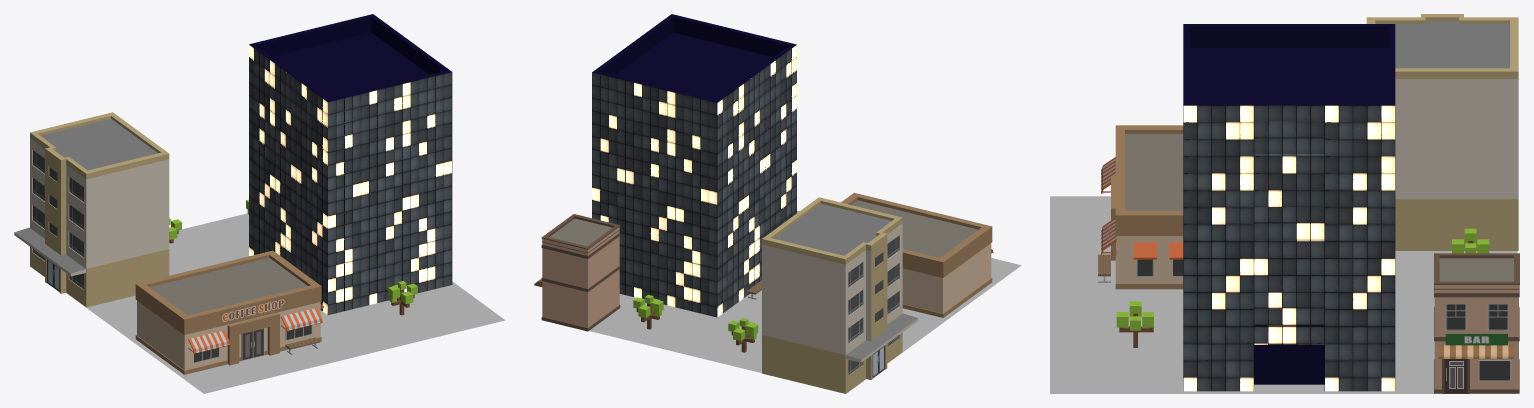
Rendered from apartments.gltf.
The picture shows the model from 3 angles, left to right: view 1: azimuth 30°, elevation 25°; view 2: azimuth 150°, elevation 25°; view 3: azimuth 270°, elevation 25°; orthographic projection. The views are drawn at different scales.
Parts seen in each view (by area): view 1: Cube001, Building_Sky_small_color01_Cube028, Building_Coffee_Shop_Cube010, Road_Concrete_Tile_Plane010, Cube001_1, Natures_Cube_Tree_Cube017; view 2: Cube001, Building_Sky_small_color01_Cube028, Cube001_1, Building_Coffee_Shop_Cube010, Road_Concrete_Tile_Plane010, Building_Bar_Cube002, Natures_Cube_Tree_Cube002, Natures_Cube_Tree_Cube001; view 3: Cube001, Building_Sky_small_color01_Cube028, Road_Concrete_Tile_Plane010, Cube001_1, Building_Coffee_Shop_Cube010, Building_Bar_Cube002, Natures_Cube_Tree_Cube017, Natures_Cube_Tree_Cube002.
Part boxes in pixels (bbox=[...]): Cube001: bbox=[249, 44, 452, 314]; Building_Sky_small_color01_Cube028: bbox=[14, 112, 169, 307]; Building_Coffee_Shop_Cube010: bbox=[135, 250, 323, 374]; Road_Concrete_Tile_Plane010: bbox=[30, 213, 505, 393]; Cube001_1: bbox=[249, 14, 451, 101]; Natures_Cube_Tree_Cube017: bbox=[388, 281, 417, 315]; Cube001: bbox=[592, 45, 796, 317]; Building_Sky_small_color01_Cube028: bbox=[762, 197, 918, 393]; Cube001_1: bbox=[592, 14, 796, 102]; Building_Coffee_Shop_Cube010: bbox=[841, 192, 993, 317]; Road_Concrete_Tile_Plane010: bbox=[589, 210, 1021, 393]; Building_Bar_Cube002: bbox=[534, 214, 620, 331]; Natures_Cube_Tree_Cube002: bbox=[728, 318, 758, 352]; Natures_Cube_Tree_Cube001: bbox=[633, 294, 663, 329]; Cube001: bbox=[1183, 105, 1395, 391]; Building_Sky_small_color01_Cube028: bbox=[1366, 14, 1518, 250]; Road_Concrete_Tile_Plane010: bbox=[1050, 196, 1517, 393]; Cube001_1: bbox=[1183, 24, 1395, 384]; Building_Coffee_Shop_Cube010: bbox=[1101, 125, 1183, 289]; Building_Bar_Cube002: bbox=[1434, 253, 1519, 393]; Natures_Cube_Tree_Cube017: bbox=[1116, 301, 1153, 347]; Natures_Cube_Tree_Cube002: bbox=[1452, 228, 1489, 253].
Bounding box in the file's own units: 43.28 × 27 × 40.2.
9 materials, 8 textured.
